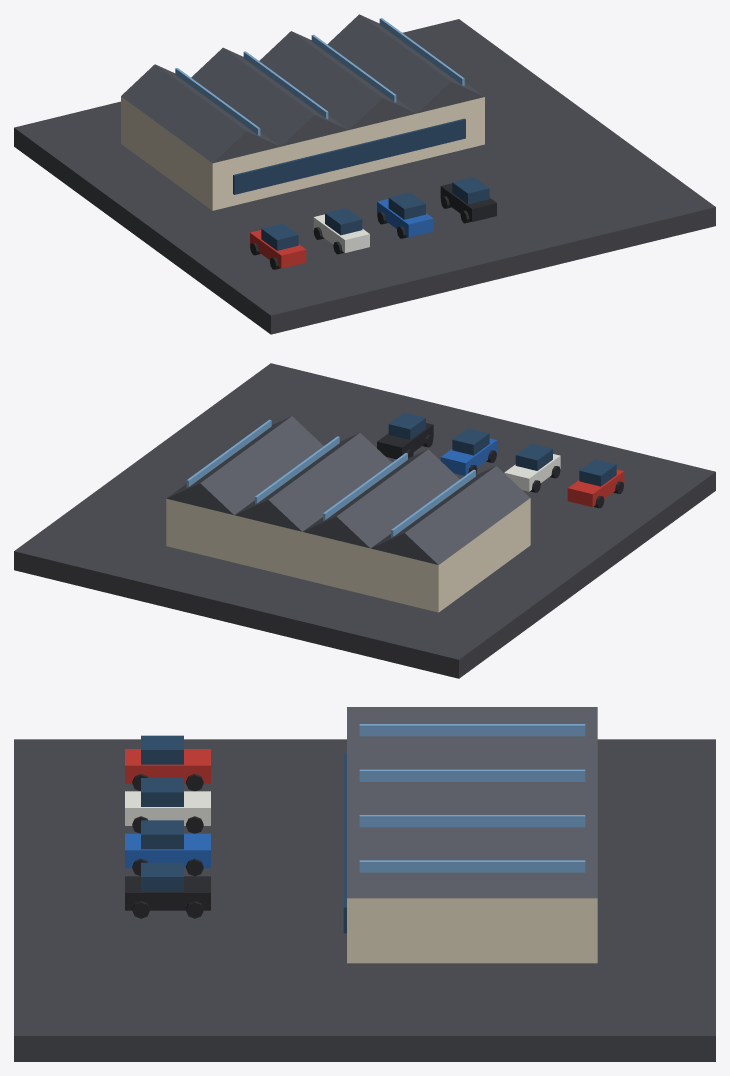
Rendered from auto_rent_2.glb.
The picture shows the model from 3 angles, top to bottom: view 1: azimuth 30°, elevation 25°; view 2: azimuth 150°, elevation 25°; view 3: azimuth 270°, elevation 25°; orthographic projection. The views are drawn at different scales.
Parts seen in each view (by area): view 1: auto_rent_2; view 2: auto_rent_2; view 3: auto_rent_2.
Boxes of the visible parts, x1,y1,x2,y2 form: auto_rent_2: (14, 14, 715, 334); auto_rent_2: (14, 363, 715, 678); auto_rent_2: (14, 707, 715, 1061).
Bounding box in the file's own units: 1.96 × 0.38 × 1.96.
